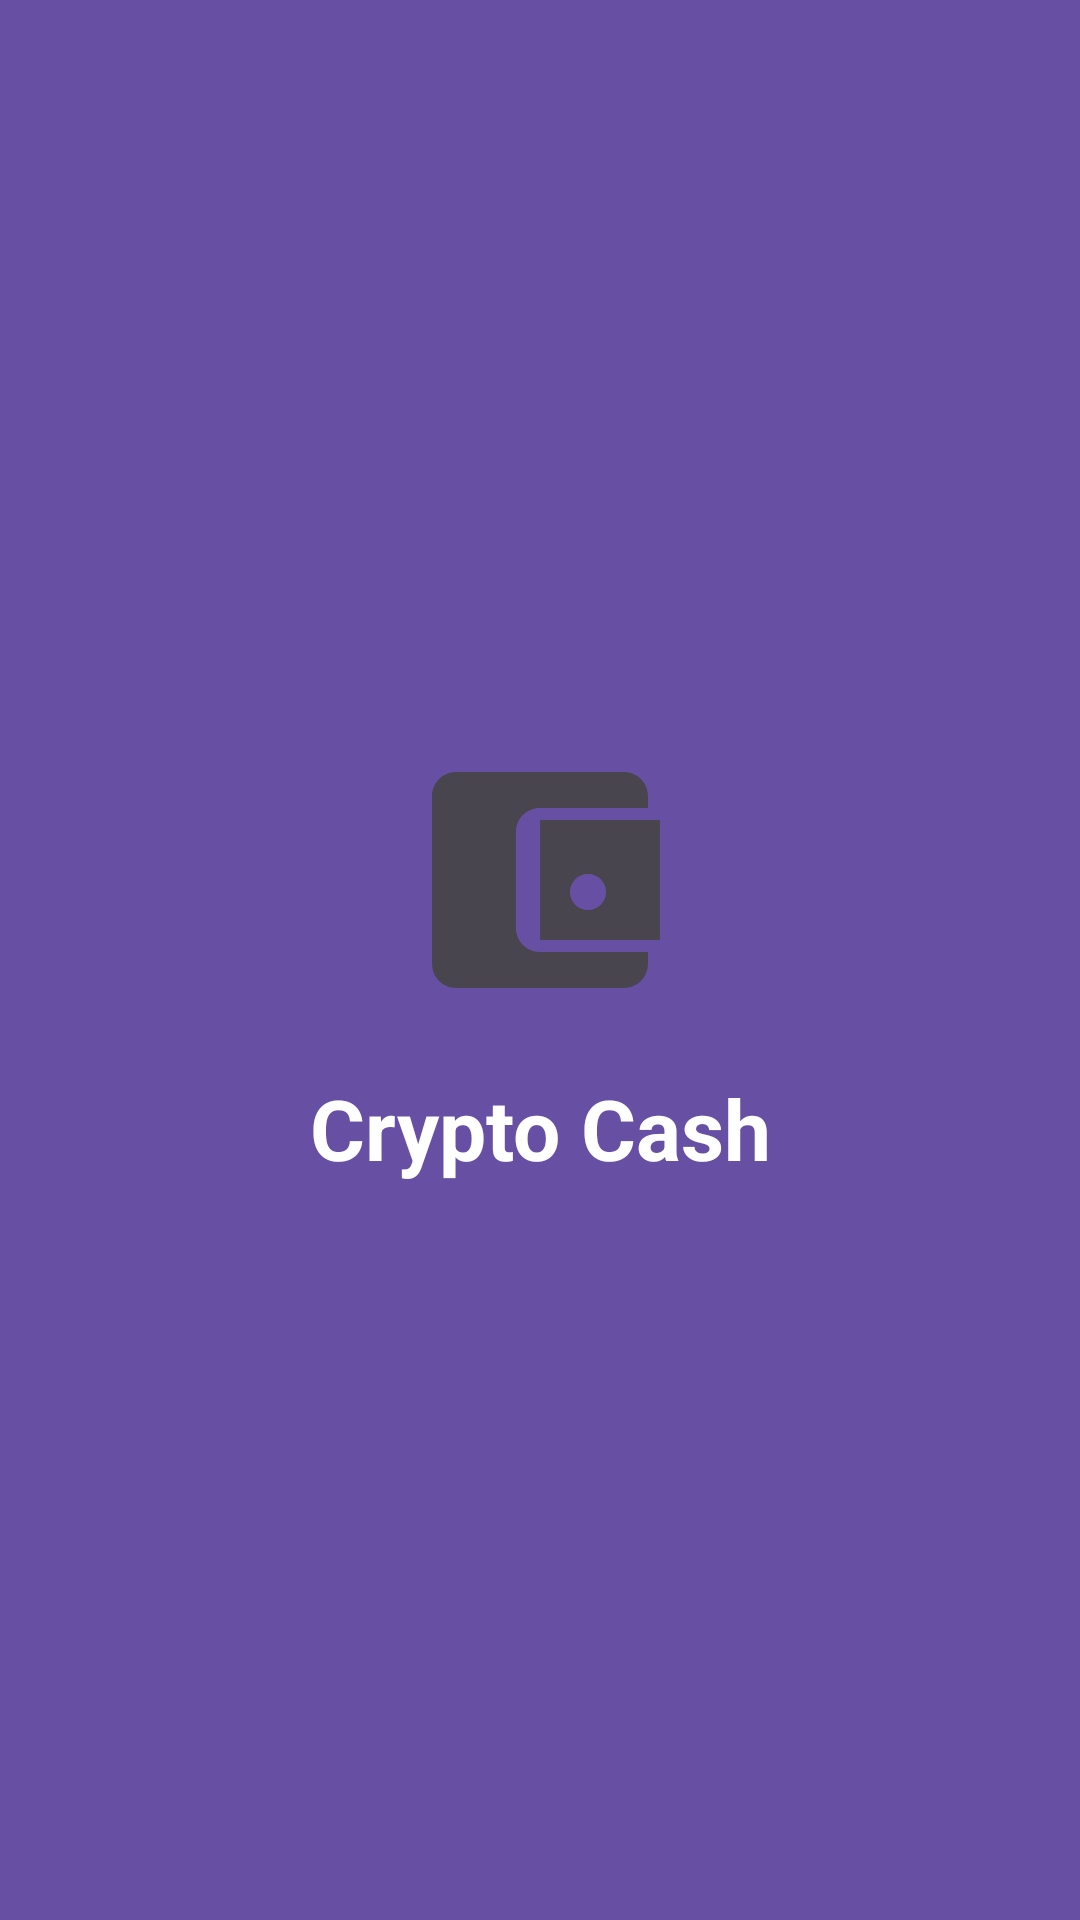

Locate icon controls on the screen. Image size 1080px×1920px, boxes as box=[x1, y1, x2, y2].
wallet: box=[432, 772, 660, 988]
